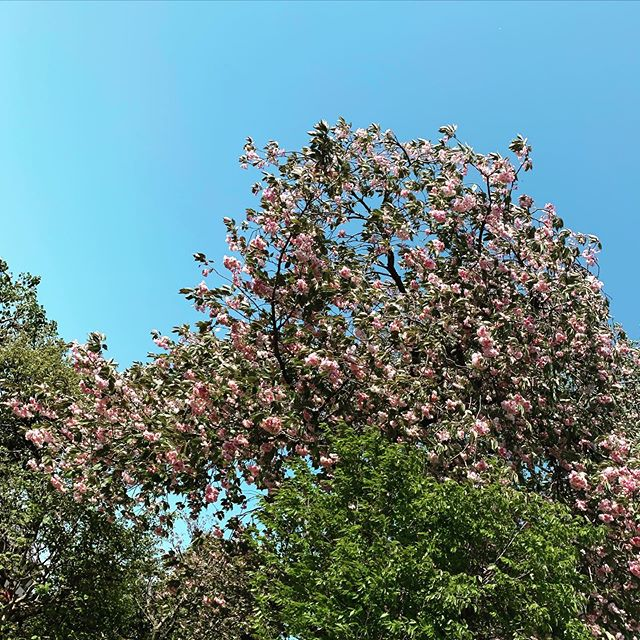sky: (26, 1, 640, 285)
tree: (1, 158, 597, 640)
